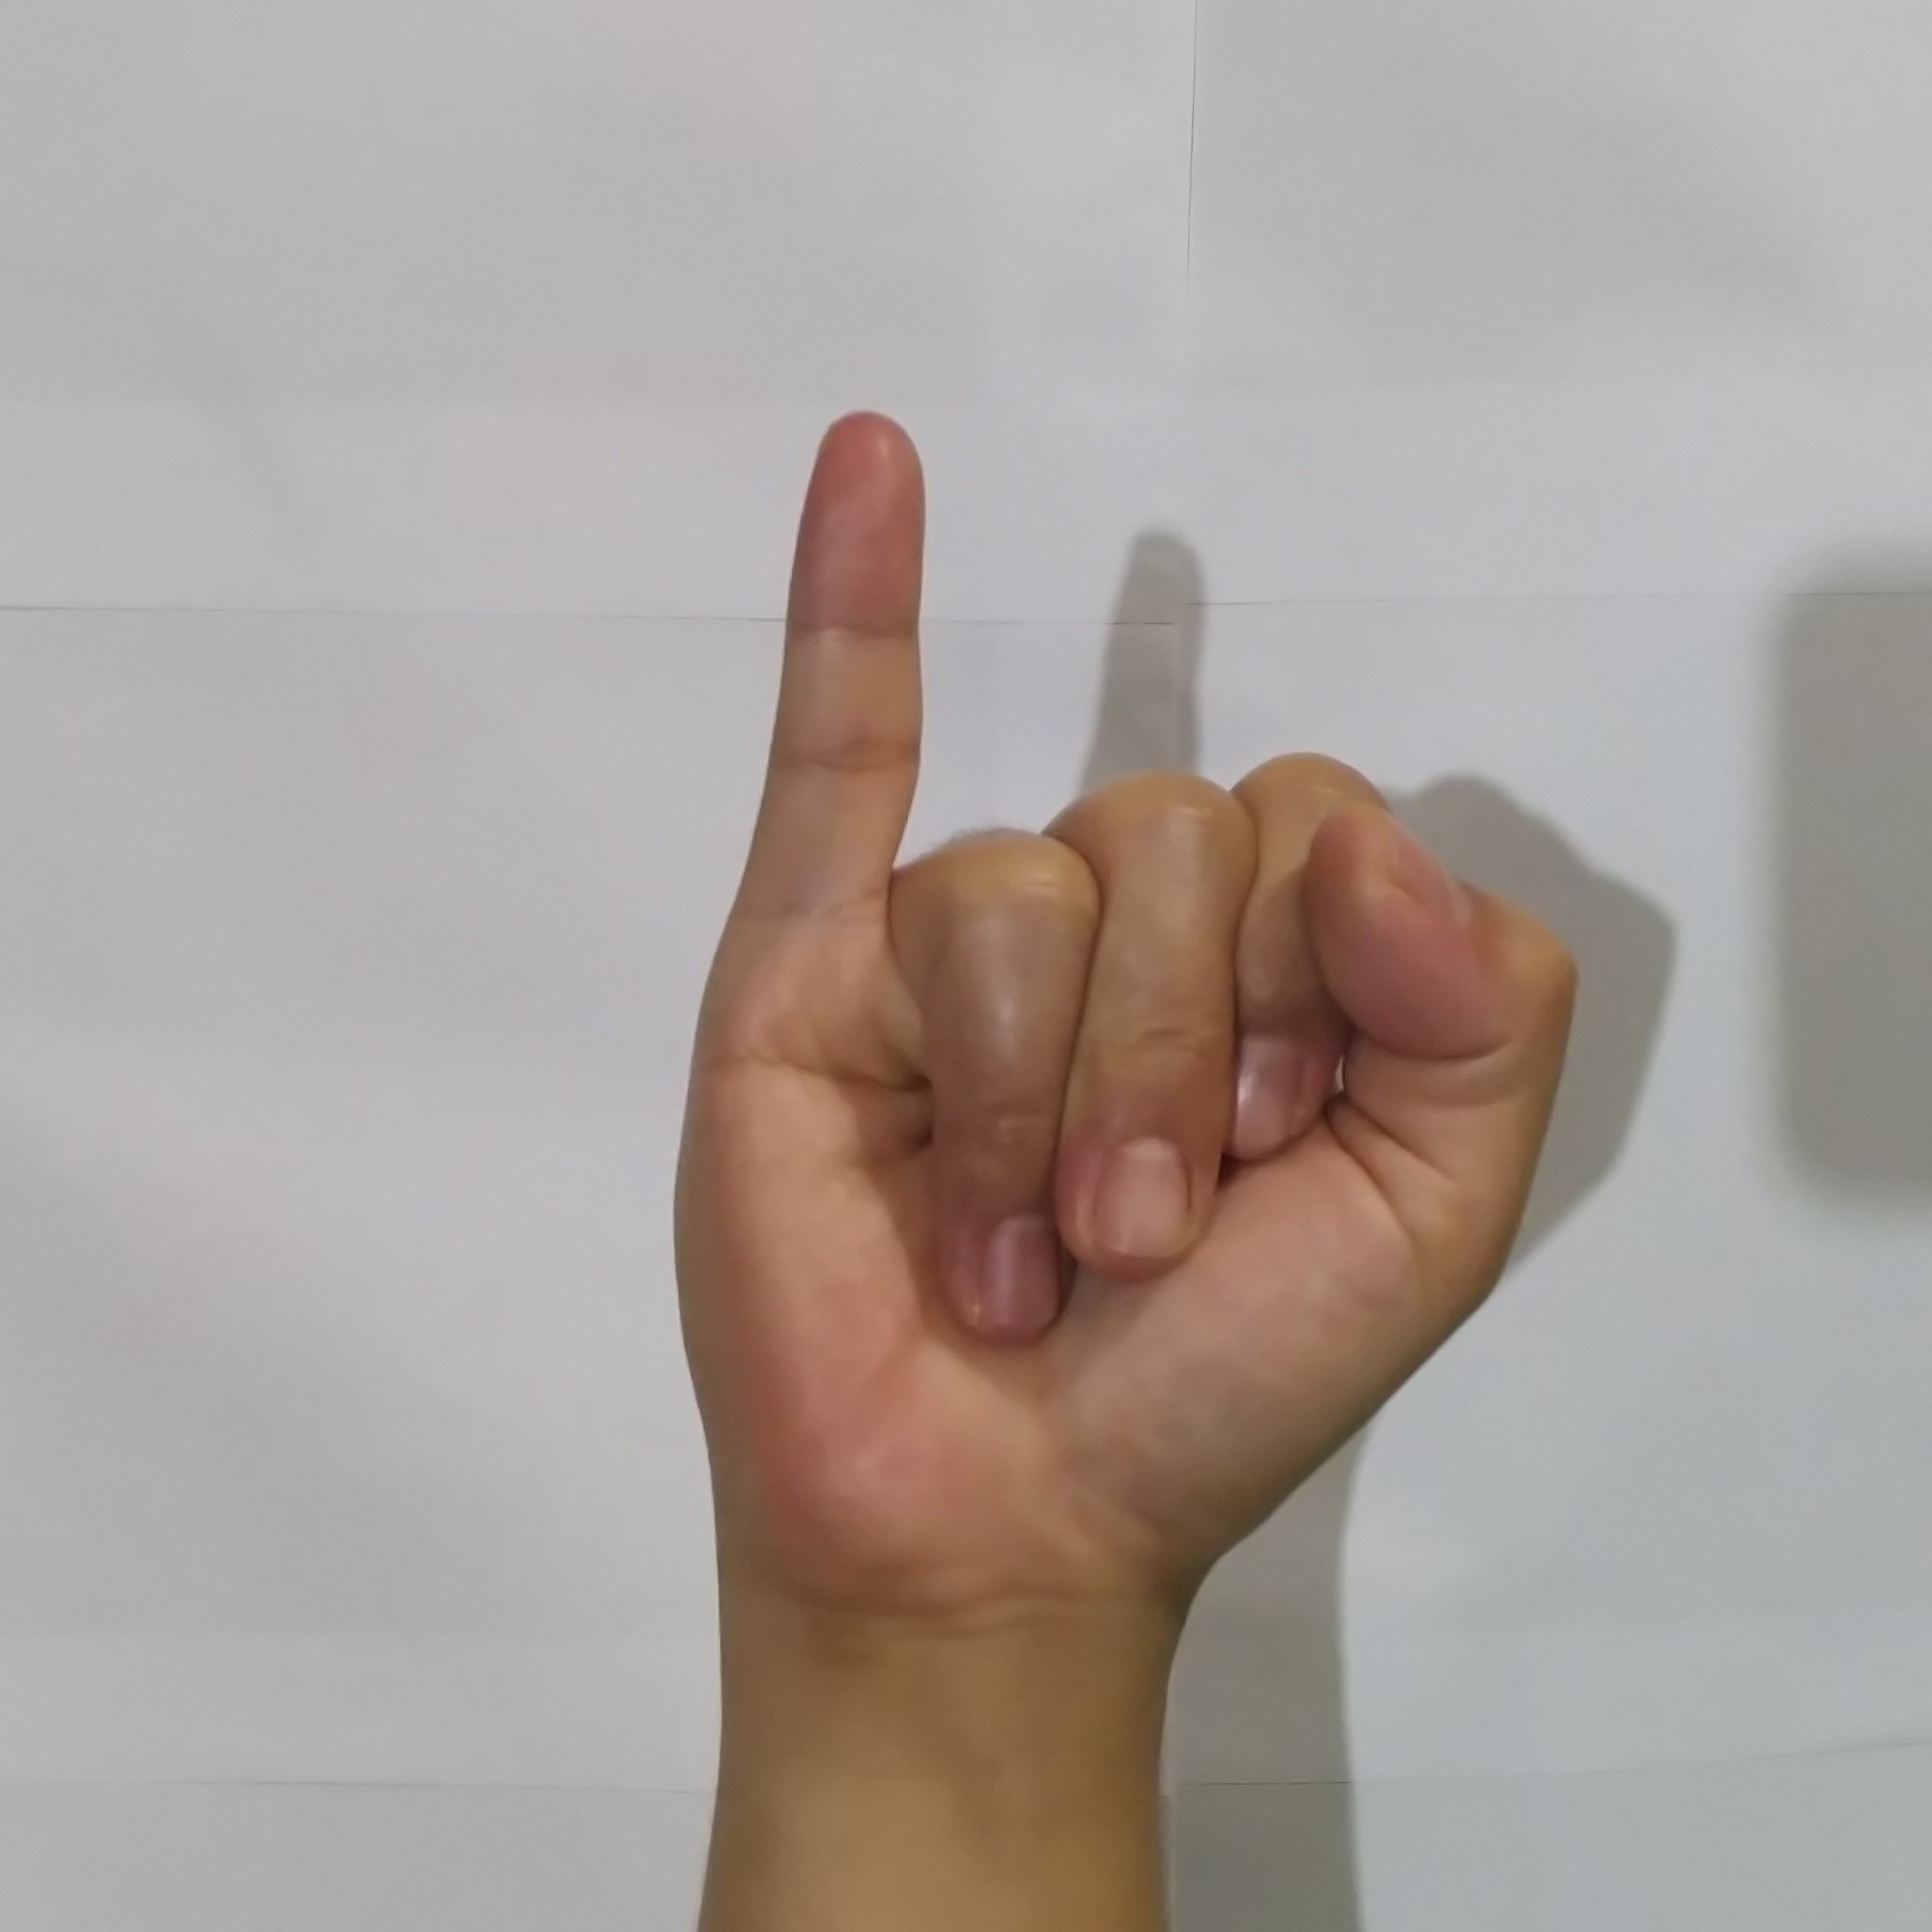I: (653, 386, 1605, 1594)
